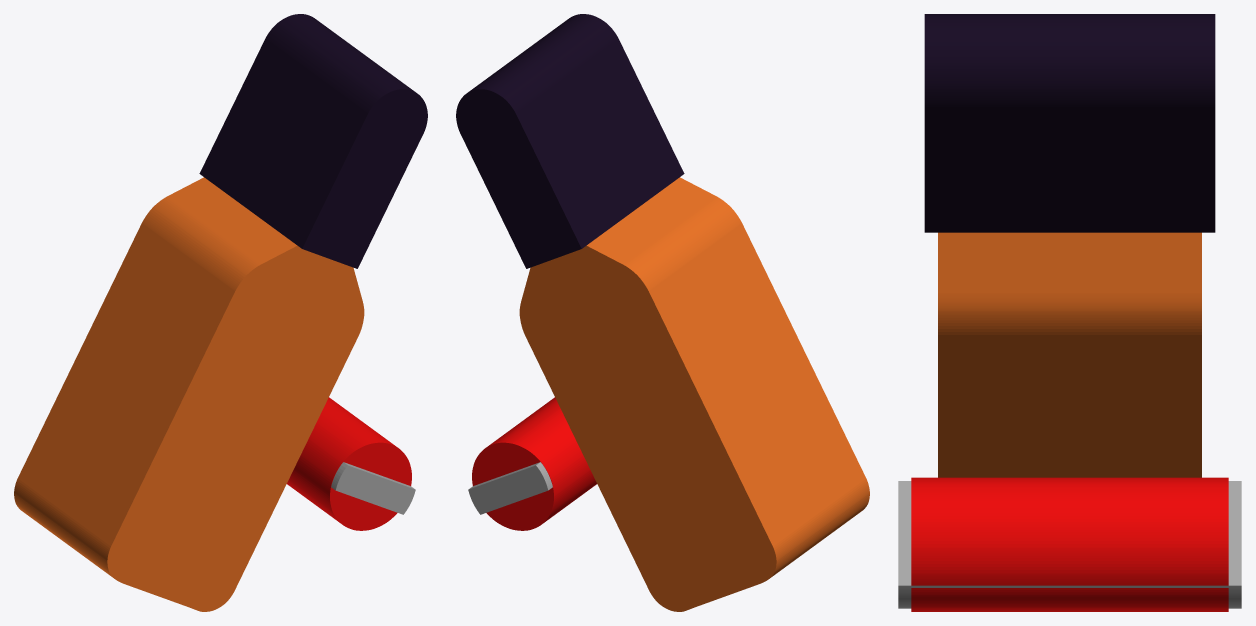
3 renders of one model, left to right at view 1: azimuth 30°, elevation 25°; view 2: azimuth 150°, elevation 25°; view 3: azimuth 270°, elevation 25°, orthographic. The views are drawn at different scales.
Visible parts, largest first — view 1: U+1F3CF_layer00_obj00, U+1F3CF_layer01_obj00, U+1F3CF_layer02_obj00, U+1F3CF_layer03_obj00; view 2: U+1F3CF_layer00_obj00, U+1F3CF_layer01_obj00, U+1F3CF_layer02_obj00, U+1F3CF_layer03_obj00; view 3: U+1F3CF_layer00_obj00, U+1F3CF_layer01_obj00, U+1F3CF_layer02_obj00, U+1F3CF_layer03_obj00.
Part boxes in pixels (x1=…): U+1F3CF_layer00_obj00: x1=14, y1=177, x2=364, y2=611; U+1F3CF_layer01_obj00: x1=199, y1=14, x2=427, y2=268; U+1F3CF_layer02_obj00: x1=287, y1=397, x2=411, y2=530; U+1F3CF_layer03_obj00: x1=331, y1=462, x2=415, y2=514; U+1F3CF_layer00_obj00: x1=519, y1=177, x2=869, y2=611; U+1F3CF_layer01_obj00: x1=456, y1=14, x2=684, y2=268; U+1F3CF_layer02_obj00: x1=472, y1=397, x2=596, y2=530; U+1F3CF_layer03_obj00: x1=468, y1=462, x2=552, y2=514; U+1F3CF_layer00_obj00: x1=938, y1=232, x2=1201, y2=477; U+1F3CF_layer01_obj00: x1=924, y1=14, x2=1215, y2=232; U+1F3CF_layer02_obj00: x1=911, y1=477, x2=1228, y2=611; U+1F3CF_layer03_obj00: x1=898, y1=481, x2=1241, y2=608.
Bounding box in the file's own units: 0.3906 × 0.568 × 0.26.
